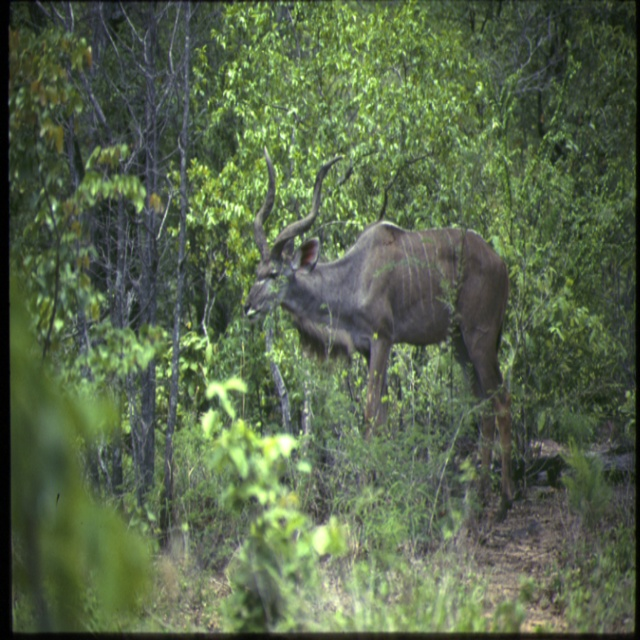Deer: (244, 144, 514, 526)
